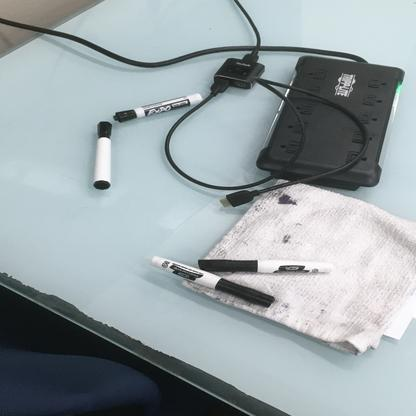expo_marker: (146, 251, 279, 314), (197, 255, 336, 283), (108, 90, 205, 125), (88, 115, 119, 192)
